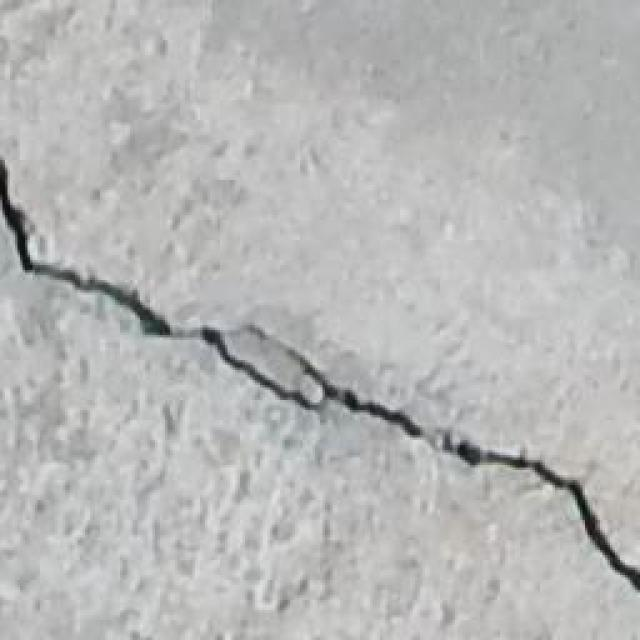concrete-crack: (0, 152, 640, 595)
